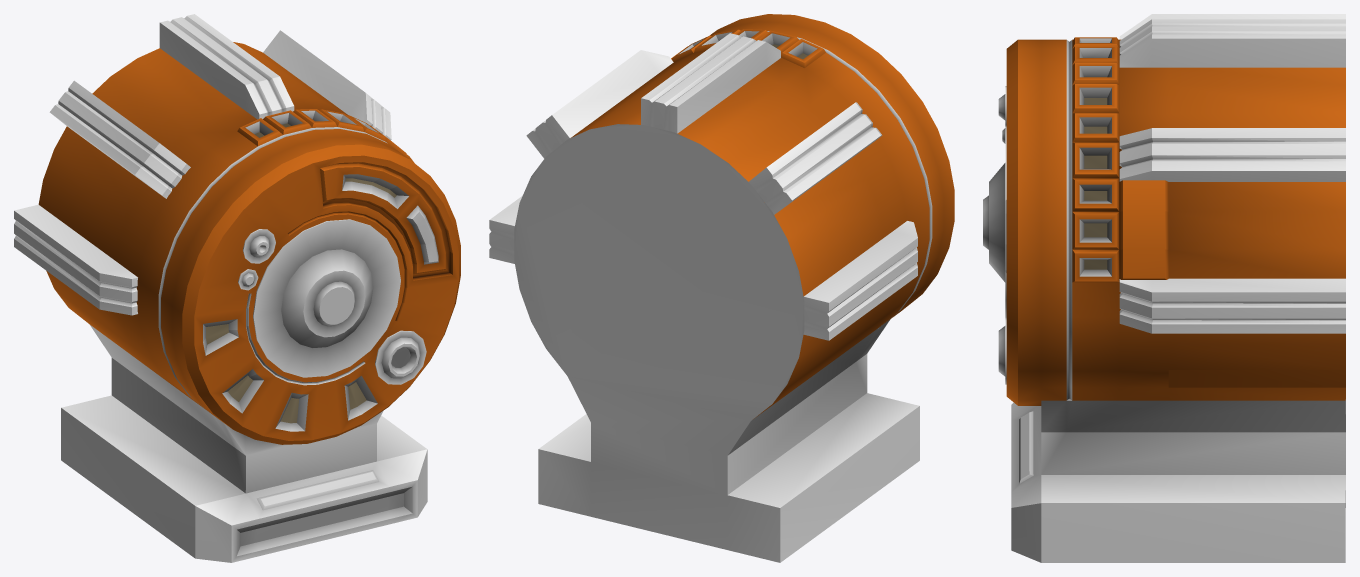
Rendered from deco_pipe_wallConnector.FBX.
The picture shows the model from 3 angles, left to right: view 1: azimuth 30°, elevation 25°; view 2: azimuth 150°, elevation 25°; view 3: azimuth 270°, elevation 25°; orthographic projection. The views are drawn at different scales.
Visible parts, largest first — view 1: deco_pipe_wallConnector; view 2: deco_pipe_wallConnector; view 3: deco_pipe_wallConnector.
Boxes of the visible parts, left/top/right/bottom form: deco_pipe_wallConnector: left=14, top=14, right=460, bottom=562; deco_pipe_wallConnector: left=489, top=14, right=954, bottom=562; deco_pipe_wallConnector: left=983, top=14, right=1345, bottom=562.
Bounding box in the file's own units: 1.4 × 1.7 × 1.19.
